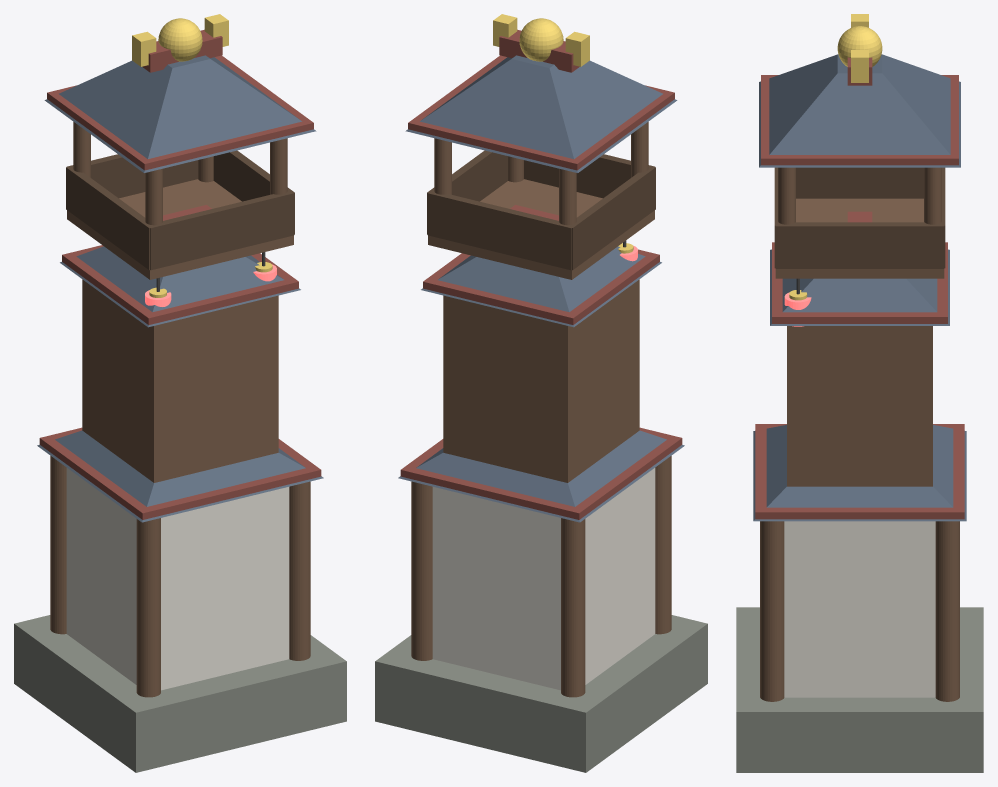
The model's file is guard_tower.glb.
3 renders of one model, left to right at view 1: azimuth 30°, elevation 25°; view 2: azimuth 150°, elevation 25°; view 3: azimuth 270°, elevation 25°, orthographic.
Parts seen in each view (by area): view 1: TowerT1, TowerT2, TowerBase, TRoofTop_Tiles, ArcherRailY, TRoof1_Tiles, TRoof2_Tiles, ArcherFloor, TRoof1_EavesTrim, TowerCol1, ArcherRailX, TRoofTop_EavesTrim (+11 smaller); view 2: TowerT1, TowerT2, TowerBase, TRoofTop_Tiles, ArcherRailY.001, TRoof1_Tiles, TRoof2_Tiles, ArcherFloor, TRoof1_EavesTrim, TowerCol1.001, ArcherRailX, TRoofTop_EavesTrim (+11 smaller); view 3: TowerT1, TowerT2, TowerBase, TRoofTop_Tiles, ArcherRailX.001, TRoof1_Tiles, TRoof2_Tiles, TRoof1_EavesTrim, ArcherFloor, TowerCol1.002, TowerCol1.003, ArcherRailX (+6 smaller).
Boxes of the visible parts, x1,y1,x2,y2 form: TowerT1: (66,468,289,690); TowerT2: (82,279,278,482); TowerBase: (14,615,346,772); TRoofTop_Tiles: (44,55,316,172); ArcherRailY: (147,190,294,270); TRoof1_Tiles: (37,430,323,522); TRoof2_Tiles: (60,246,300,327); ArcherFloor: (67,179,293,279); TRoof1_EavesTrim: (39,427,321,519); TowerCol1: (136,518,160,697); ArcherRailX: (66,166,156,270); TRoofTop_EavesTrim: (47,55,313,170); TowerT1: (432,468,655,690); TowerT2: (443,279,639,482); TowerBase: (375,615,707,772); TRoofTop_Tiles: (405,55,677,172); ArcherRailY.001: (427,190,574,270); TRoof1_Tiles: (398,430,684,522); TRoof2_Tiles: (421,246,661,327); ArcherFloor: (428,179,654,279); TRoof1_EavesTrim: (400,427,682,519); TowerCol1.001: (561,518,585,697); ArcherRailX: (565,166,655,270); TRoofTop_EavesTrim: (408,55,674,170); TowerT1: (784,521,935,697); TowerT2: (787,326,932,486); TowerBase: (736,607,983,772); TRoofTop_Tiles: (759,54,960,167); ArcherRailX.001: (775,222,944,268); TRoof1_Tiles: (753,425,966,521); TRoof2_Tiles: (770,249,949,325); TRoof1_EavesTrim: (755,424,964,519); ArcherFloor: (775,198,944,278); TowerCol1.002: (760,521,784,701); TowerCol1.003: (935,521,959,701); ArcherRailX: (796,167,923,198).
Bounding box in the file's own units: 2.2 × 6.8 × 2.2.
